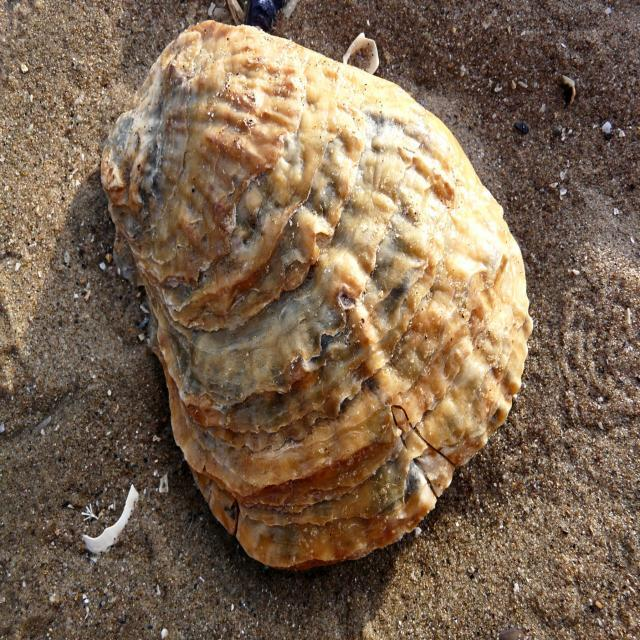Oyster- Indeterminate: (100, 20, 534, 574)
